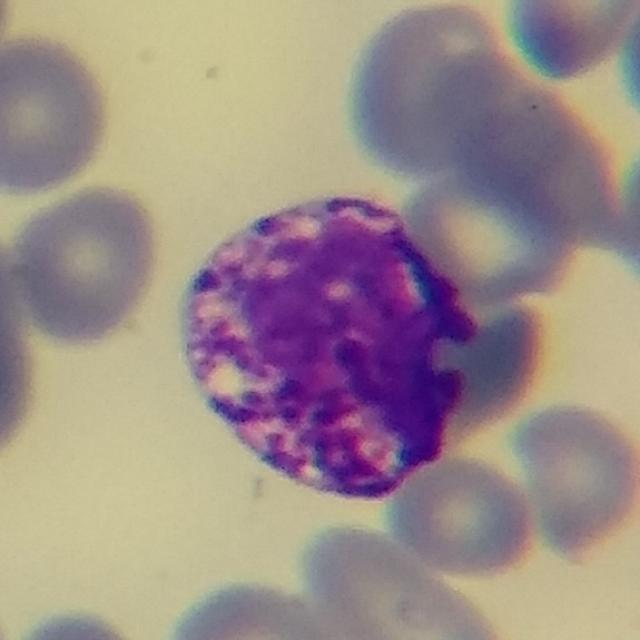baso: (167, 182, 484, 508)
